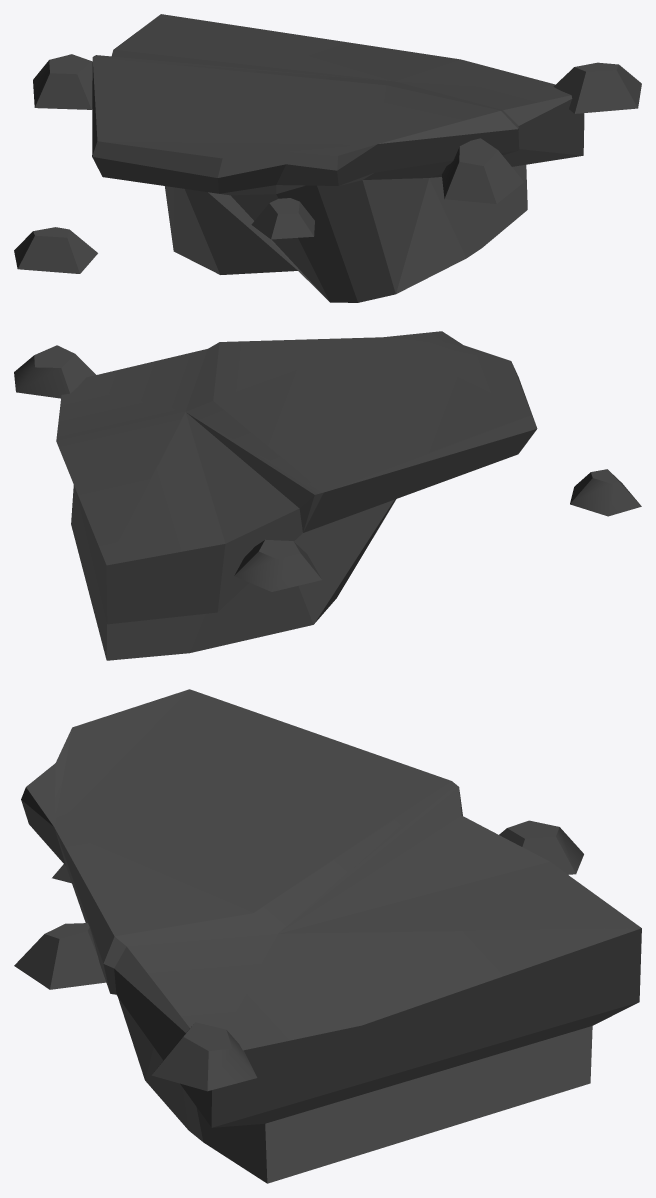
Rendered from RoadPiece2.fbx.
3 renders of one model, top to bottom at view 1: azimuth 30°, elevation 25°; view 2: azimuth 150°, elevation 25°; view 3: azimuth 270°, elevation 25°, orthographic. The views are drawn at different scales.
Visible parts, largest first — view 1: SM_Env_RoadPiece_Damaged_10; view 2: SM_Env_RoadPiece_Damaged_10; view 3: SM_Env_RoadPiece_Damaged_10.
Part boxes in pixels (x1,y1,x2,y2): SM_Env_RoadPiece_Damaged_10: [14, 14, 641, 302]; SM_Env_RoadPiece_Damaged_10: [14, 331, 641, 660]; SM_Env_RoadPiece_Damaged_10: [14, 689, 641, 1183].
Bounding box in the file's own units: 4.06 × 1.25 × 2.97.
1 material, 1 textured.
